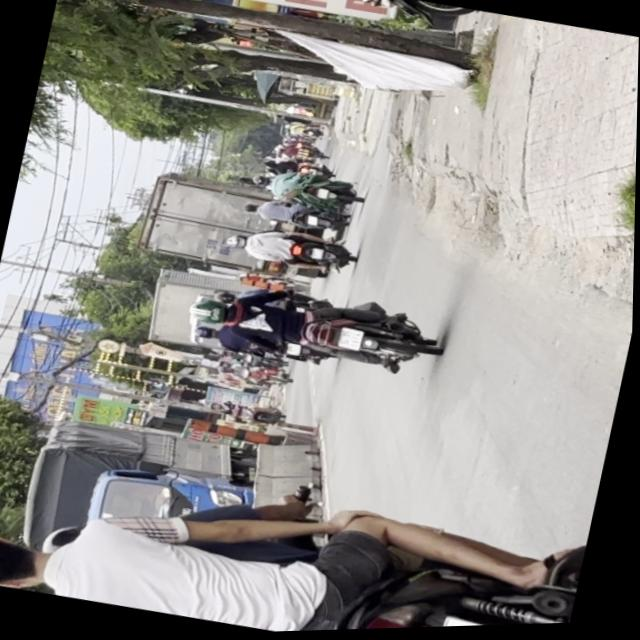helmet: (189, 298, 238, 330)
licenseplate: (0, 418, 592, 640), (181, 268, 447, 392)
motorcyclist: (0, 523, 55, 594)
nohelmet: (435, 617, 502, 630), (337, 329, 363, 354)
